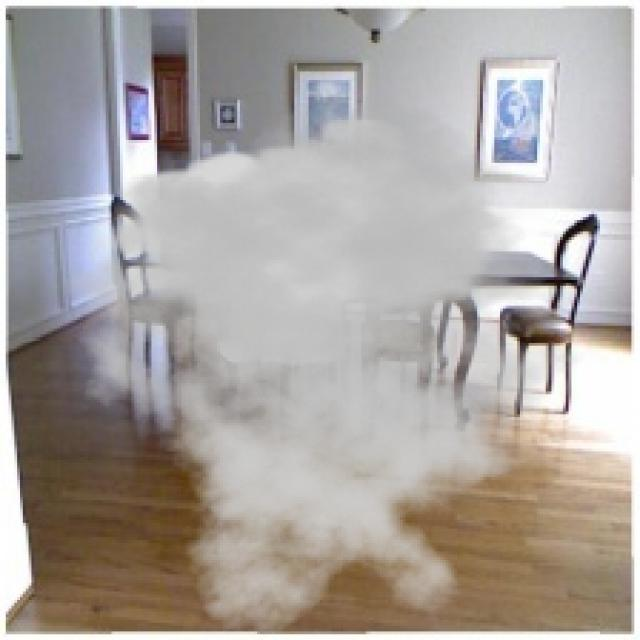smoke: (54, 97, 609, 637)
